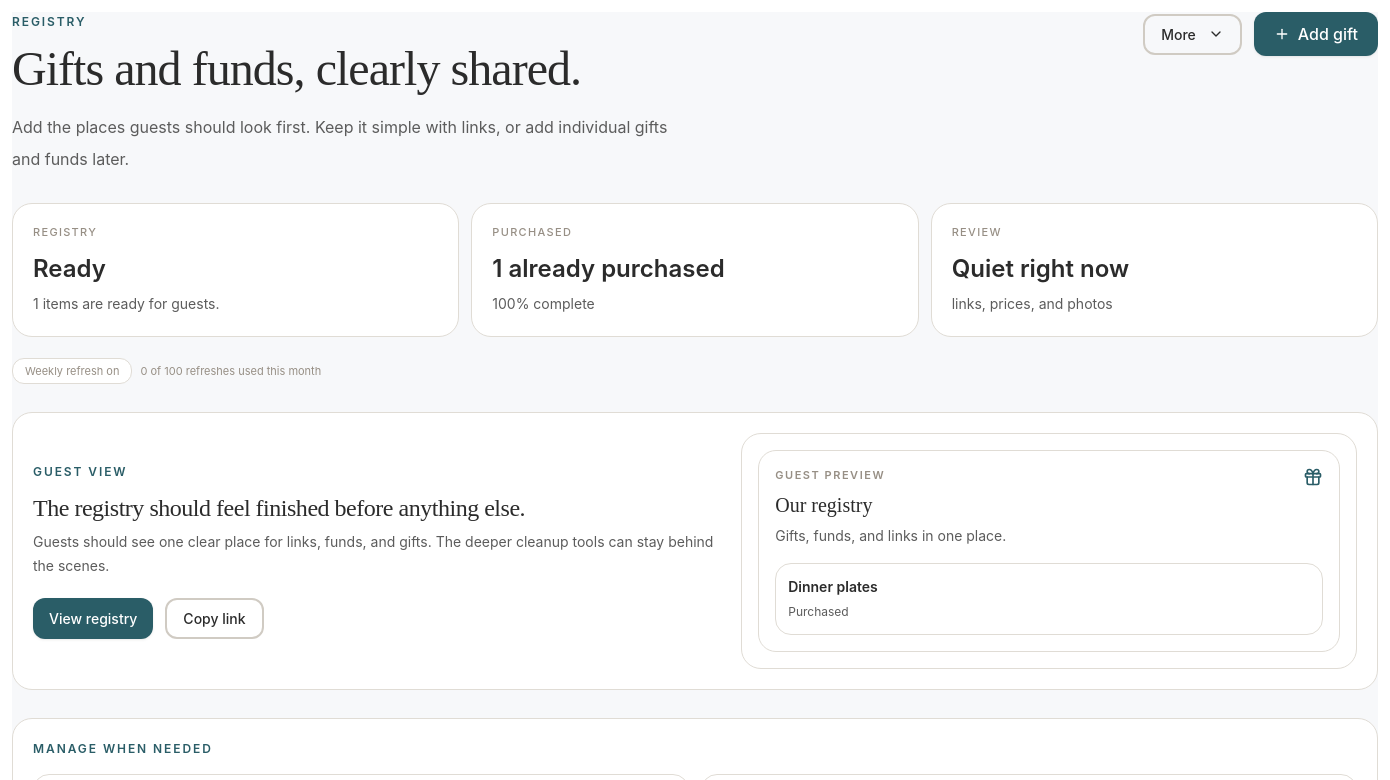
Test case: RegistryDashboardRouteContent › ignores stale guest registry link copy completion after the site slug changes
The width and height of the screenshot is (1390, 780).
Later steps or results of the test are not shown.
Click the button "Copy link" at (214, 619), box top-left (165, 598), bottom-right (264, 639)
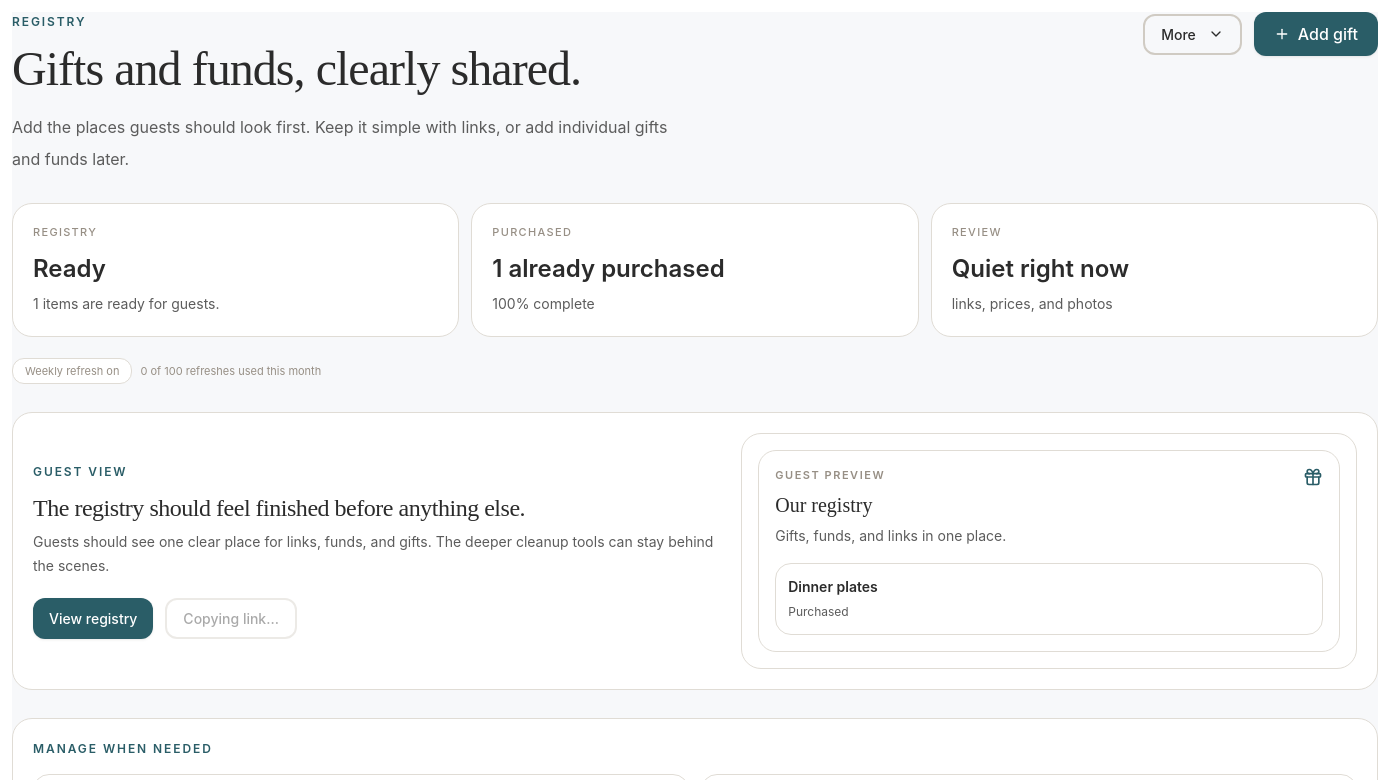
Expected: the button "Copying link..." is disabled, top-left (165, 598), bottom-right (297, 639)
